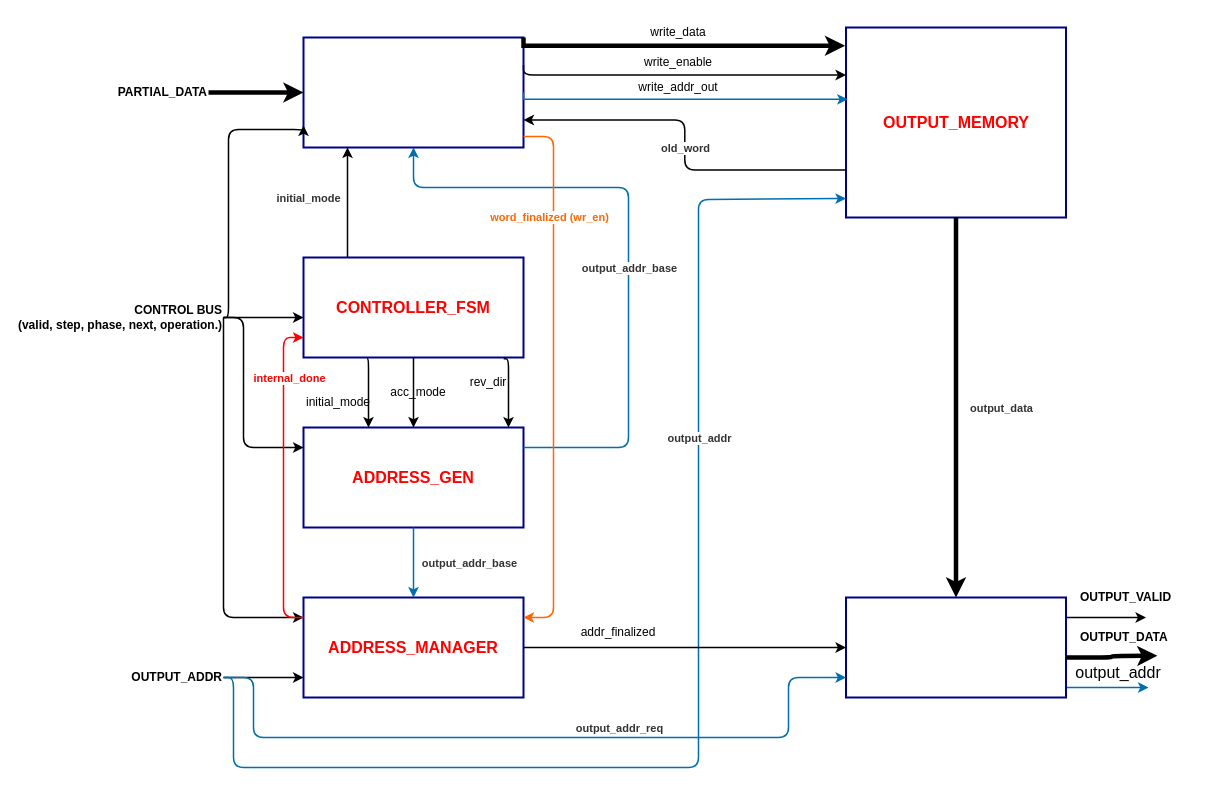
Some shapes in this 1215 by 793 pixel diagram are drawn without their labels. Here are the shapes that lost their labels. From the top down, the centre of each, then its label:
At point (413, 92): "PROCESSING_ENGINE".
At point (955, 647): "OUTPUT_INTERFACE".
